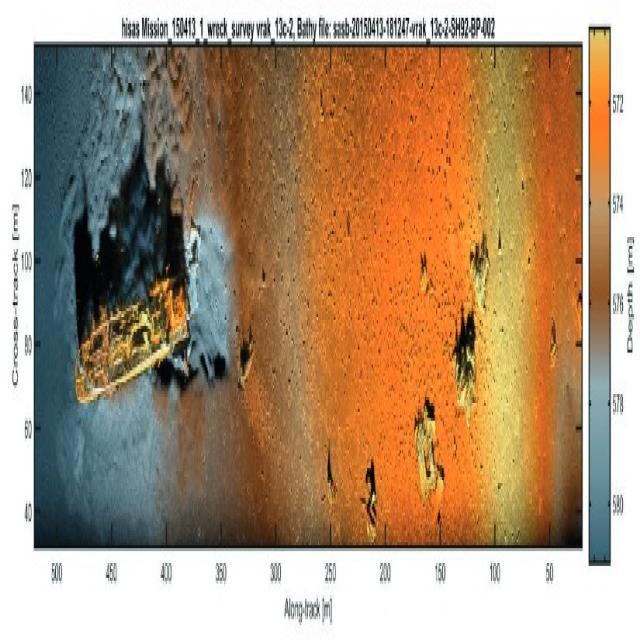shipwreck: (71, 272, 191, 412)
